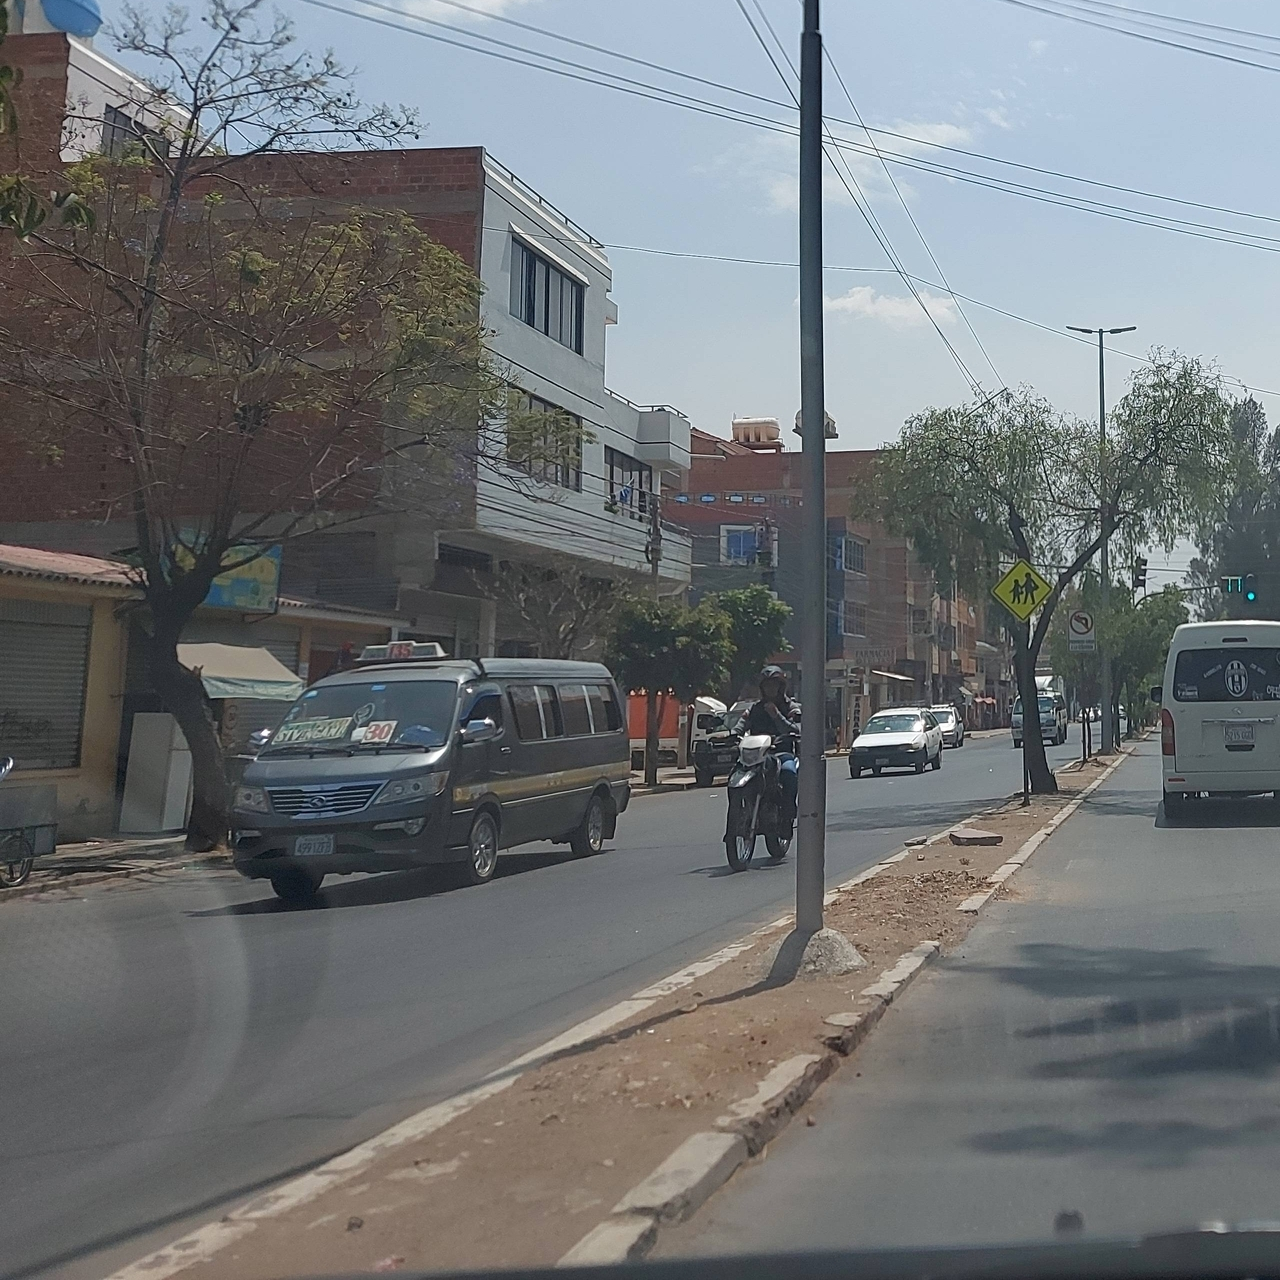prohibido-girar-izquierda: (1068, 606, 1096, 652)
zona-escolar: (987, 560, 1054, 624)
